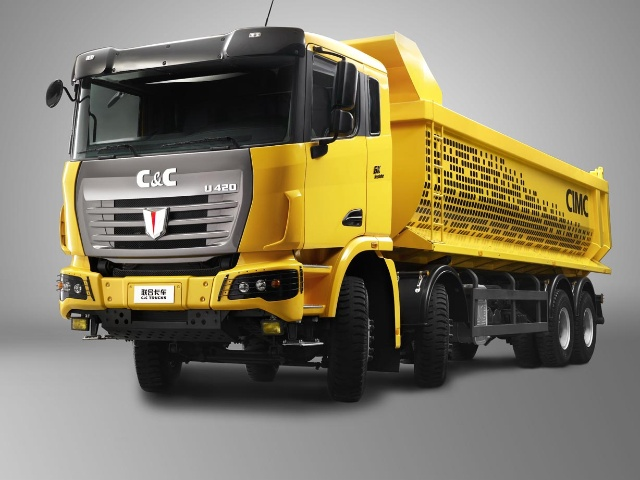Xe_tai_ben: (39, 21, 615, 405)
